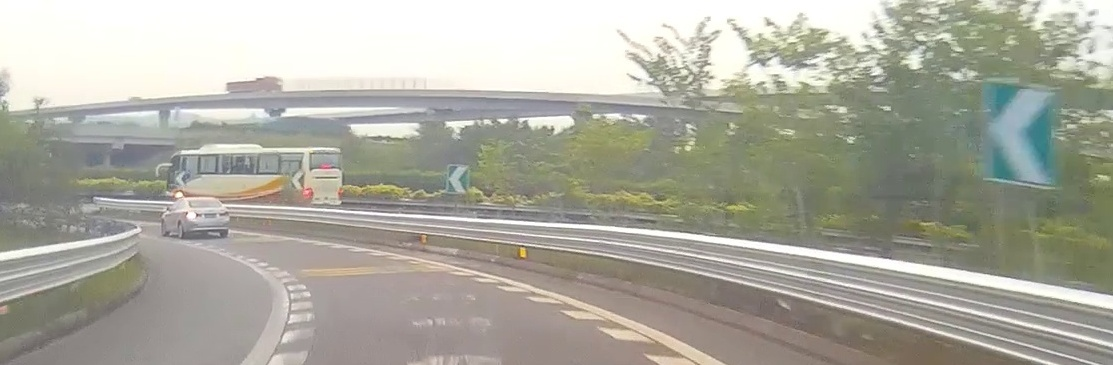L_light: (305, 189, 312, 201), (186, 212, 199, 217)
R_light: (219, 211, 228, 216), (338, 188, 342, 199)
T_light: (323, 165, 330, 168), (201, 199, 208, 201)
day-brake: (304, 149, 342, 208)
day-left: (185, 198, 230, 238)
